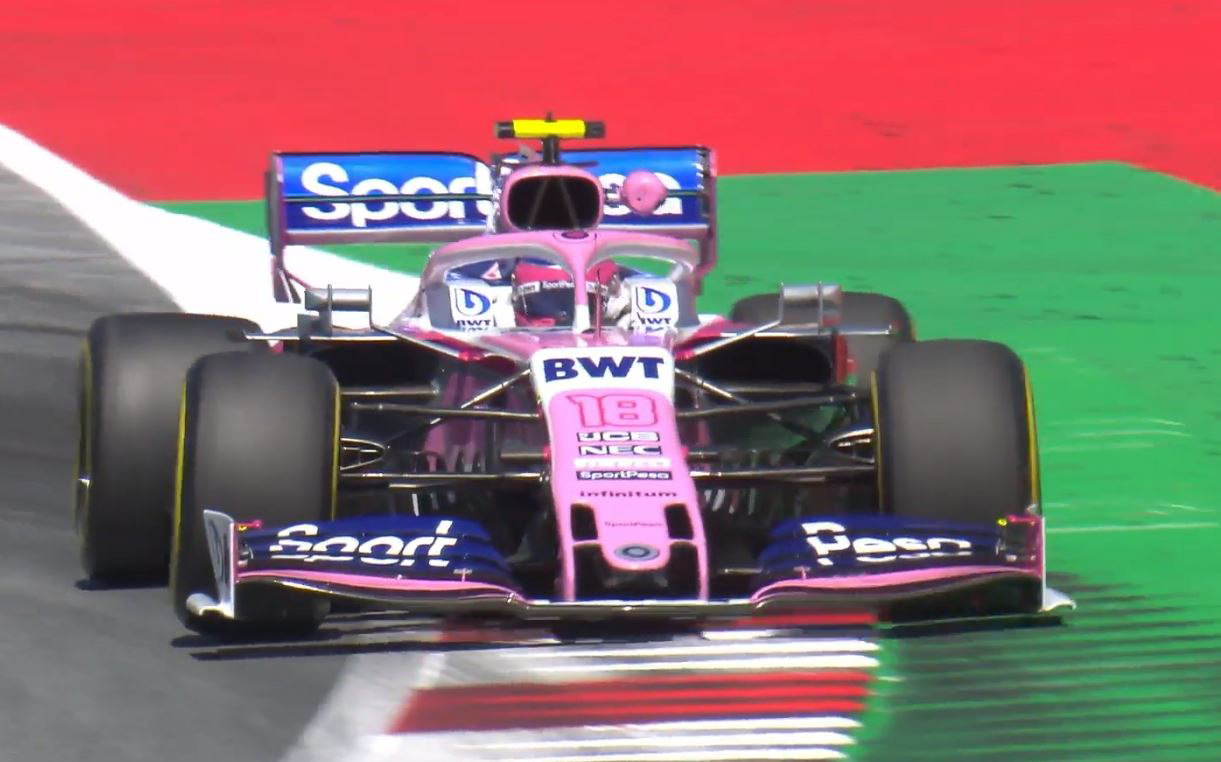F1 Car: (73, 112, 1080, 647)
